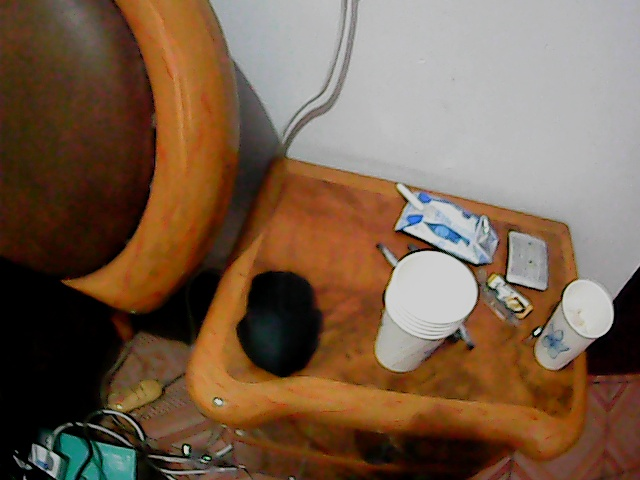cup: (370, 251, 479, 378)
mouse: (237, 266, 327, 380)
